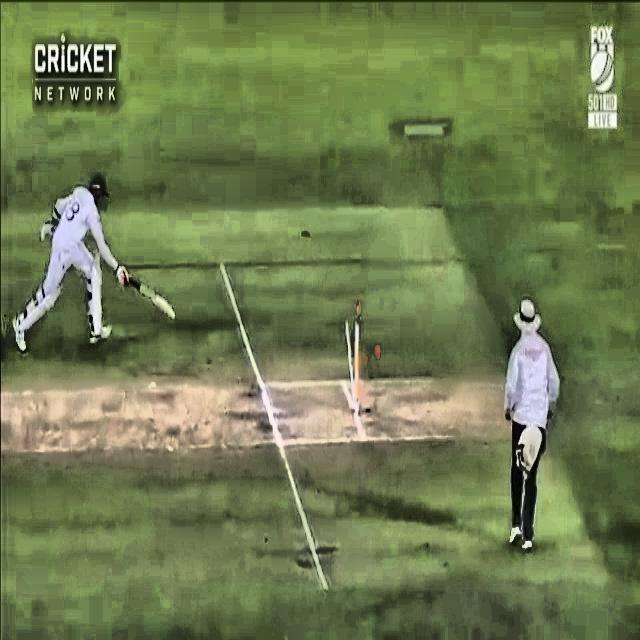Ball: (372, 340, 387, 366)
Bat: (111, 264, 179, 323)
Dis_Wicket: (338, 309, 367, 411)
Pitch_Line: (219, 263, 327, 591)
